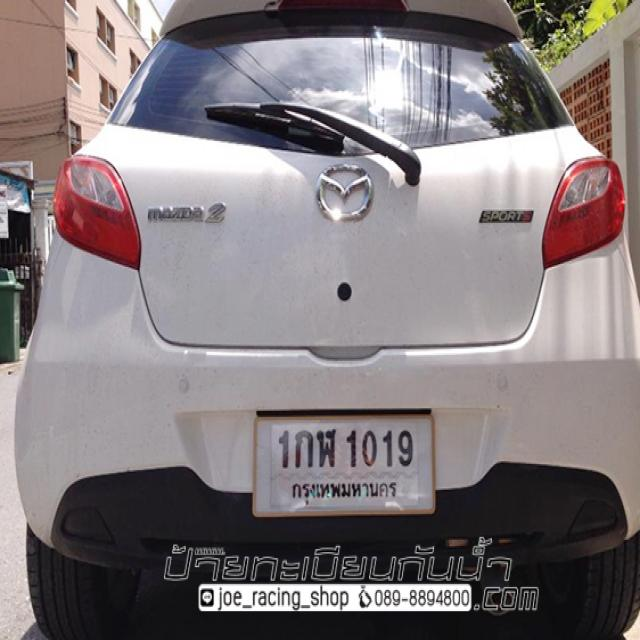license_plate: (250, 409, 440, 520)
